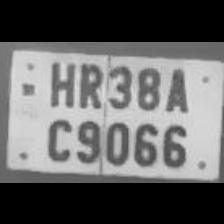0: (100, 114, 130, 164)
3: (103, 59, 133, 109)
6: (158, 119, 188, 169), (131, 117, 158, 167)
8: (132, 61, 162, 111)
9: (74, 114, 100, 164)
A: (161, 60, 191, 114)
C: (41, 111, 73, 161)
H: (42, 56, 76, 107)
R: (74, 55, 104, 108)
